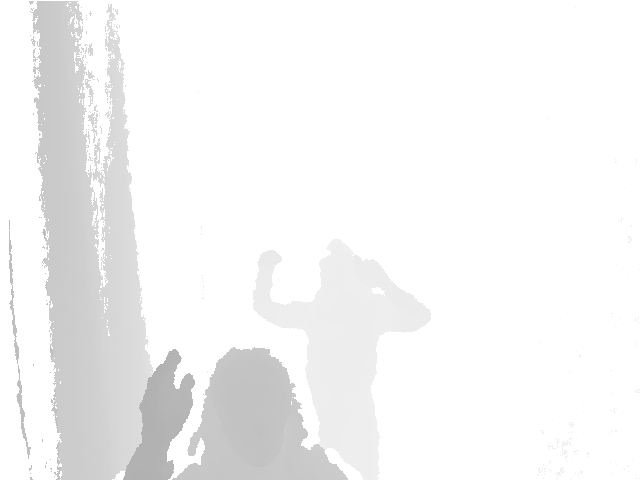head: (200, 348, 304, 474), (316, 238, 364, 303)
person: (254, 238, 429, 480), (121, 346, 337, 480)
